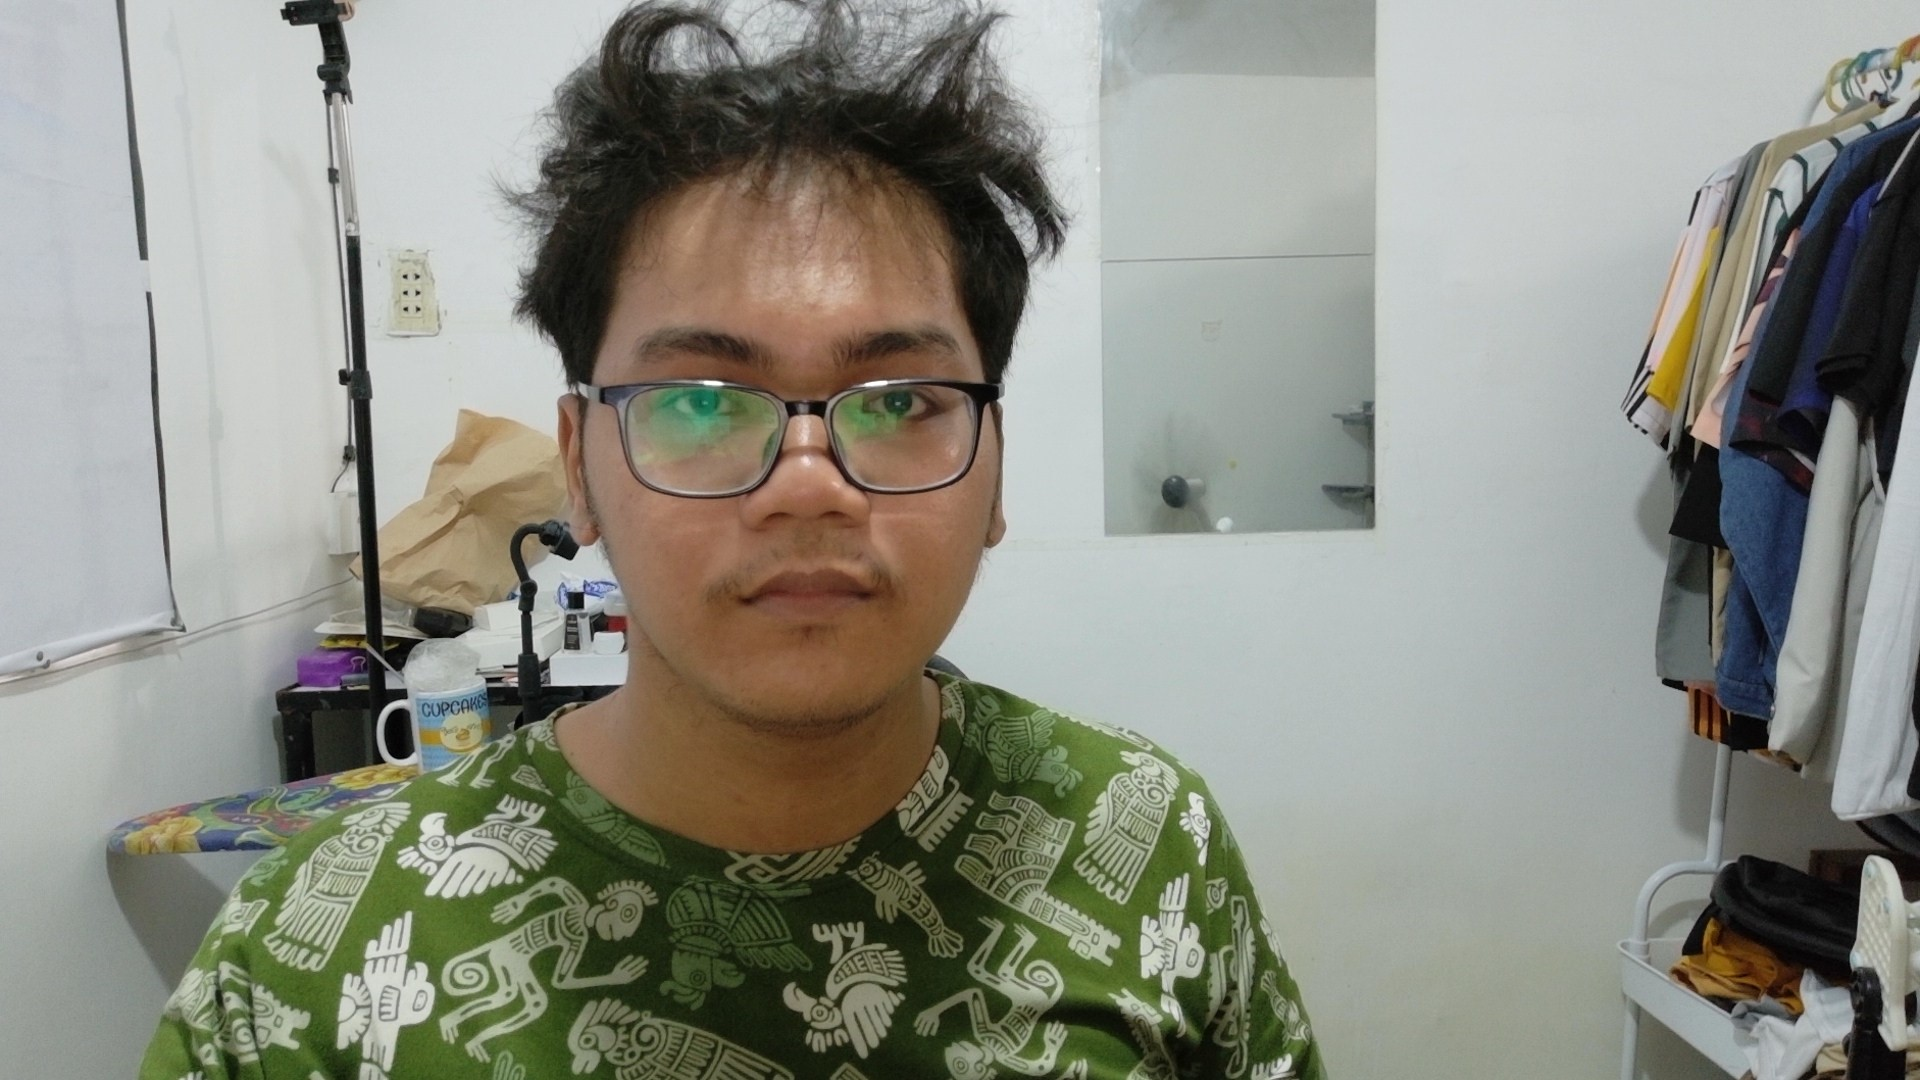face: (476, 2, 1118, 727)
